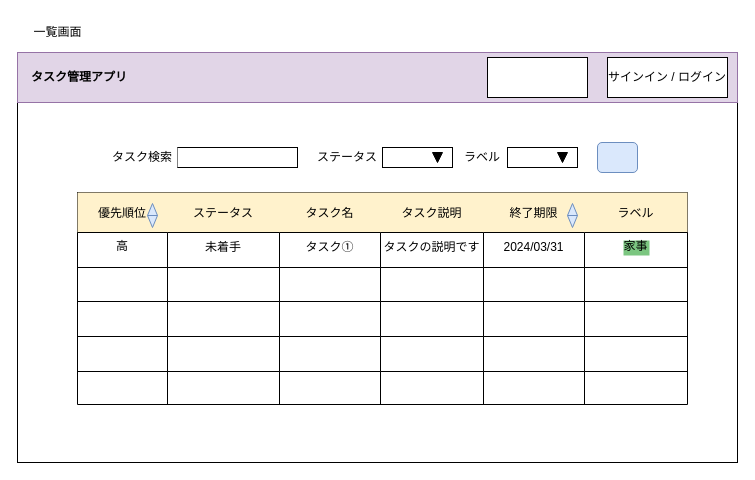
Some shapes in this 755 by 480 pixel diagram are drawn without their labels. Each missing label, with the box of its shape:
検索: (596, 142, 638, 172)
＋ タスク登録: (486, 56, 588, 98)
